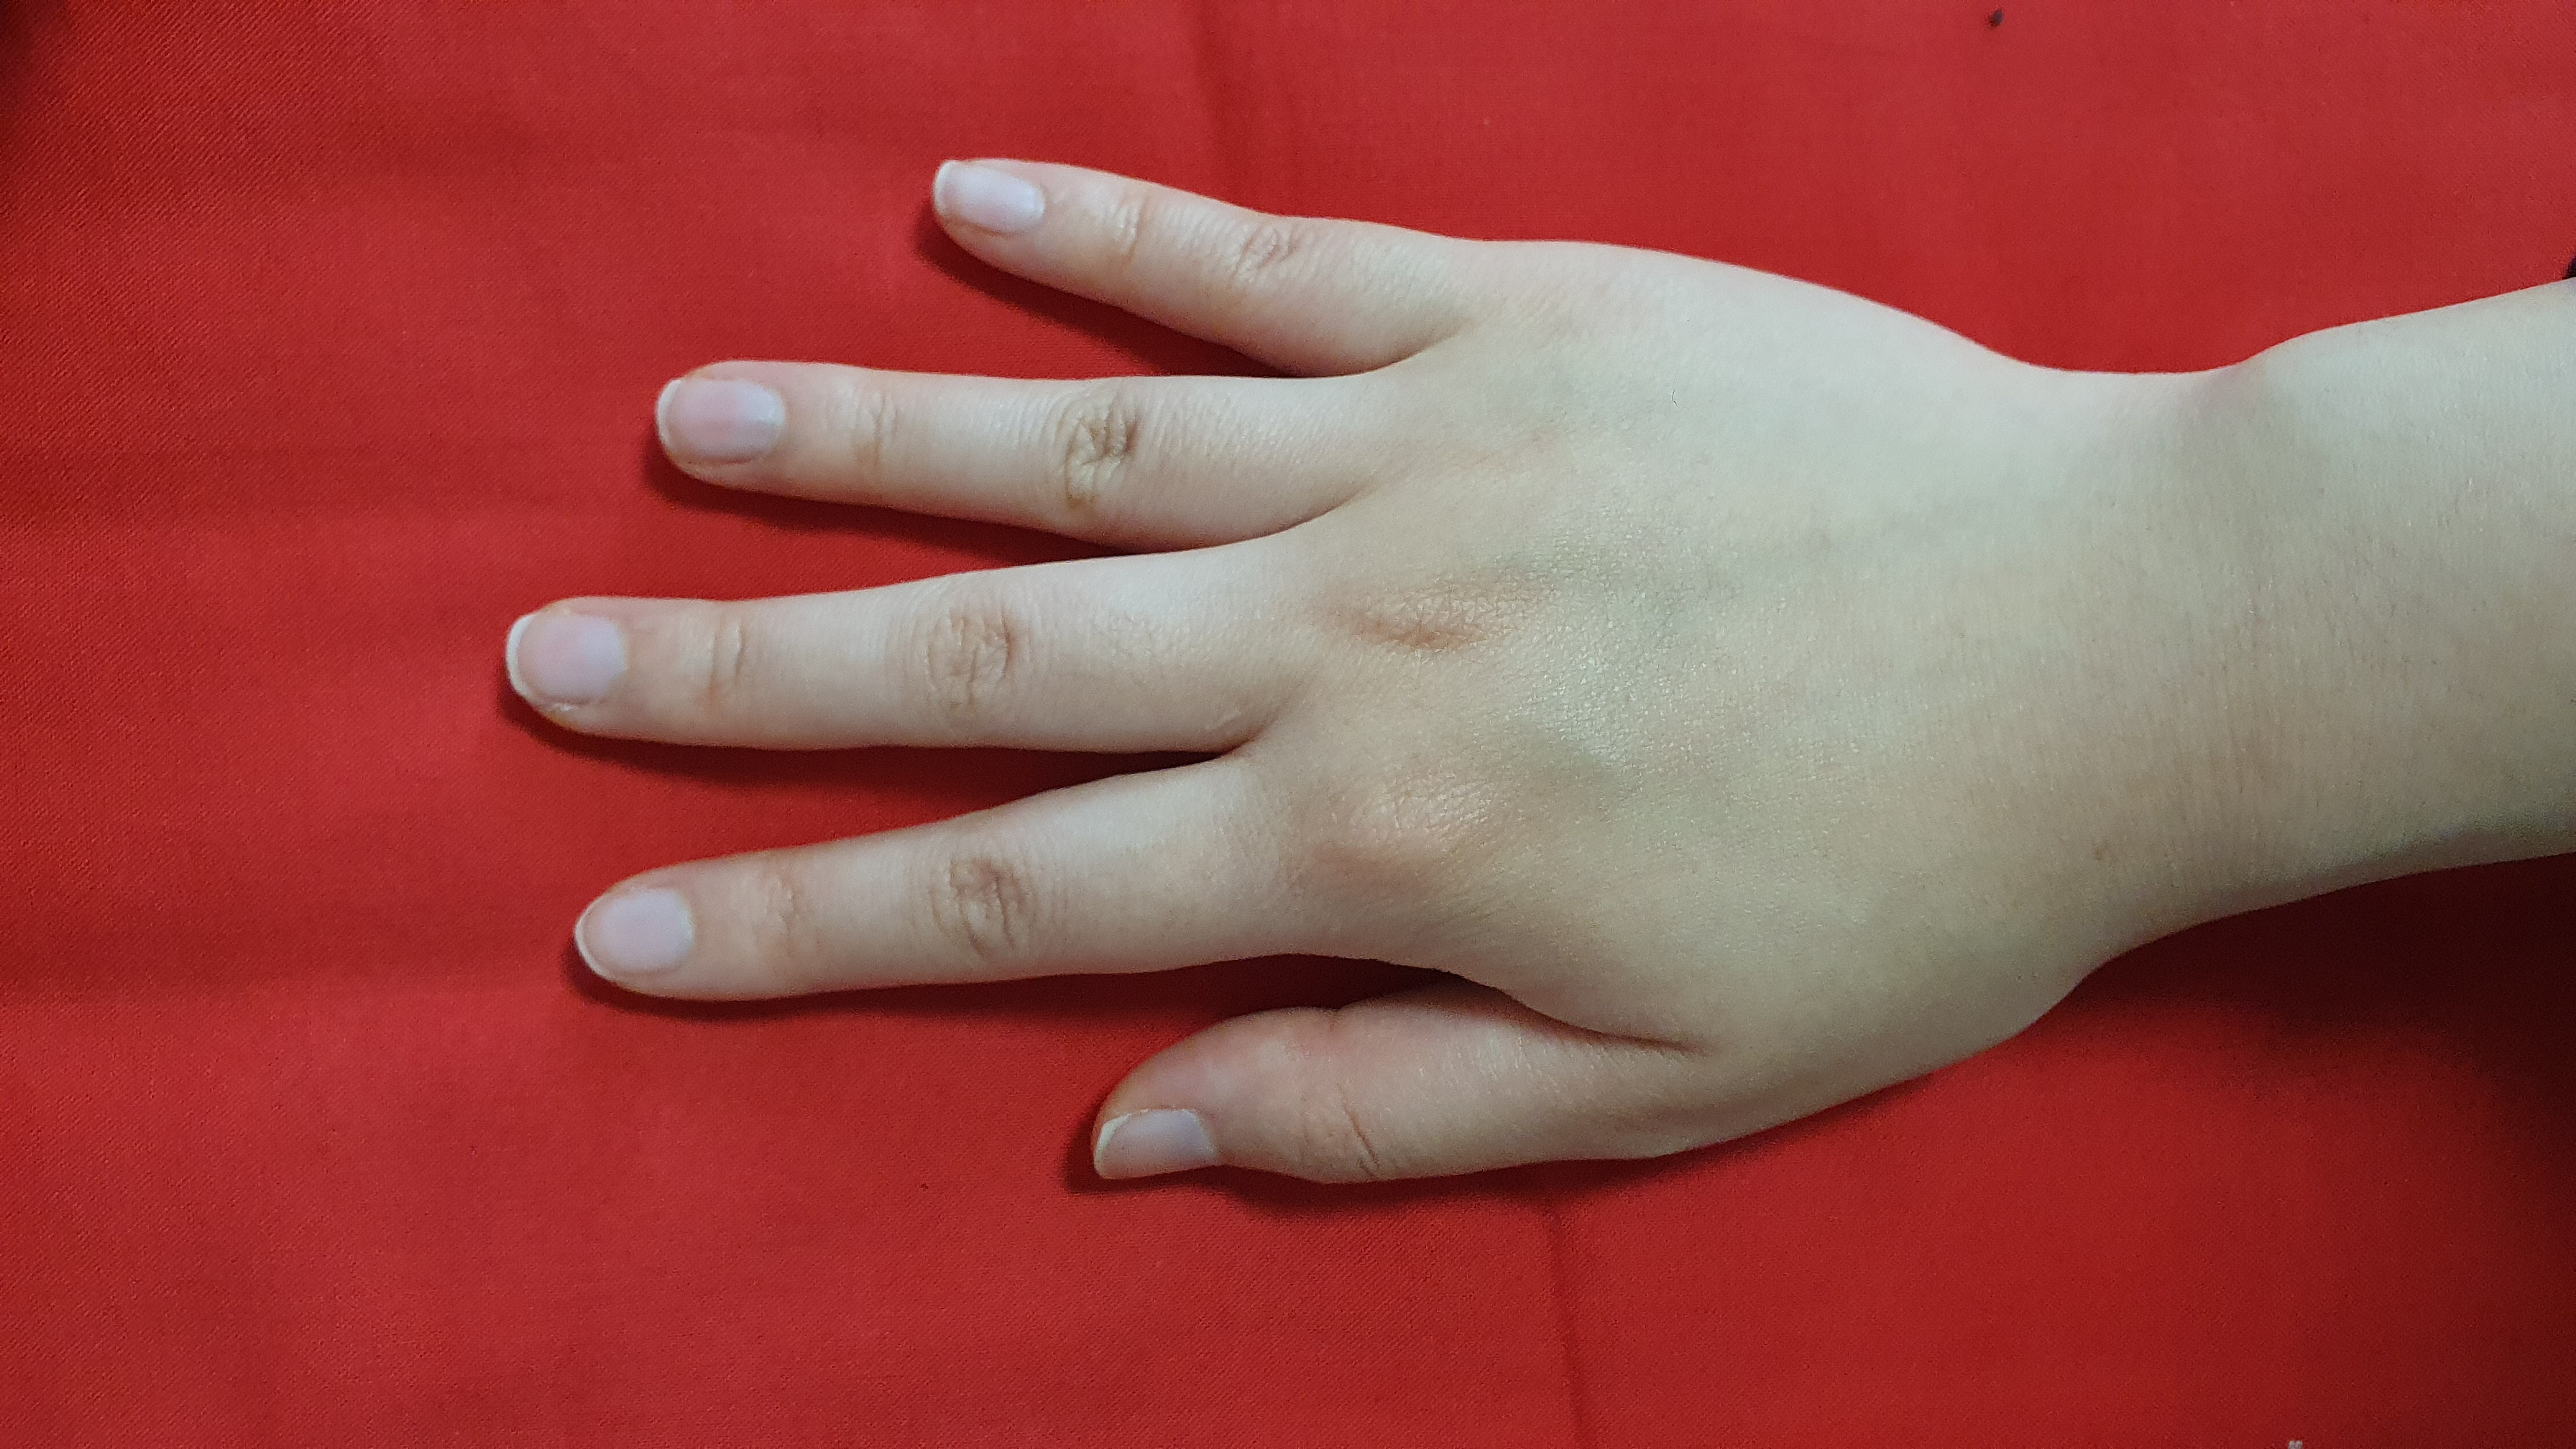backhand: (1304, 303, 2135, 1008)
hand: (474, 150, 2130, 1223)
index finger: (559, 766, 1302, 1033)
middle finger: (483, 556, 1269, 763)
pinky: (918, 150, 1465, 373)
ring finger: (642, 349, 1357, 557)
thumb: (1056, 991, 1654, 1203)
